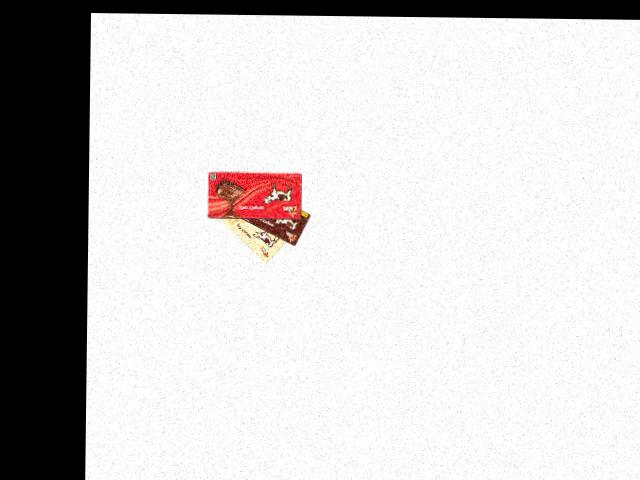chocolate: (209, 209, 297, 264)
